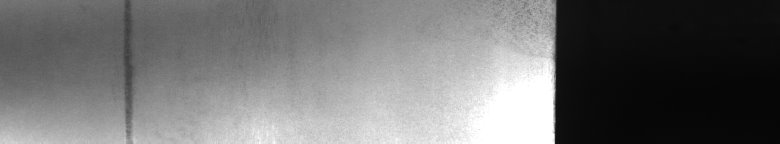hd: (117, 4, 140, 136)
